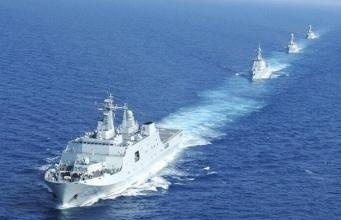warship: (41, 87, 184, 204), (246, 40, 273, 82), (284, 26, 301, 58), (304, 19, 319, 41)
